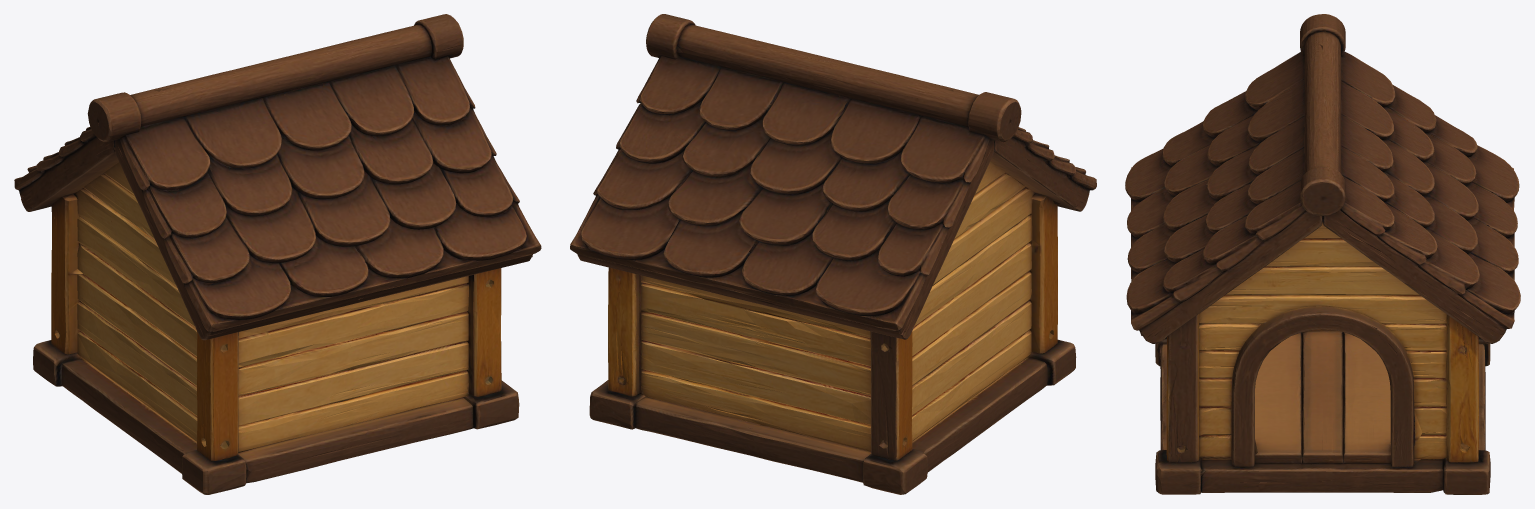
The model's file is DOM_budka_6__second.glb.
3 views of the same model, side by side, from view 1: azimuth 30°, elevation 25°; view 2: azimuth 150°, elevation 25°; view 3: azimuth 270°, elevation 25° (orthographic). The views are drawn at different scales.
Visible parts, largest first — view 1: tripo_node_4270237d-f715-4786-afb8-5faeb0086992; view 2: tripo_node_4270237d-f715-4786-afb8-5faeb0086992; view 3: tripo_node_4270237d-f715-4786-afb8-5faeb0086992.
Part boxes in pixels (x1,y1,x2,y2): tripo_node_4270237d-f715-4786-afb8-5faeb0086992: (14, 14, 541, 494); tripo_node_4270237d-f715-4786-afb8-5faeb0086992: (570, 14, 1096, 494); tripo_node_4270237d-f715-4786-afb8-5faeb0086992: (1125, 14, 1520, 494).
Bounding box in the file's own units: 0.9775 × 0.8913 × 0.9799.
Materials: 1 (1 with a texture image).
